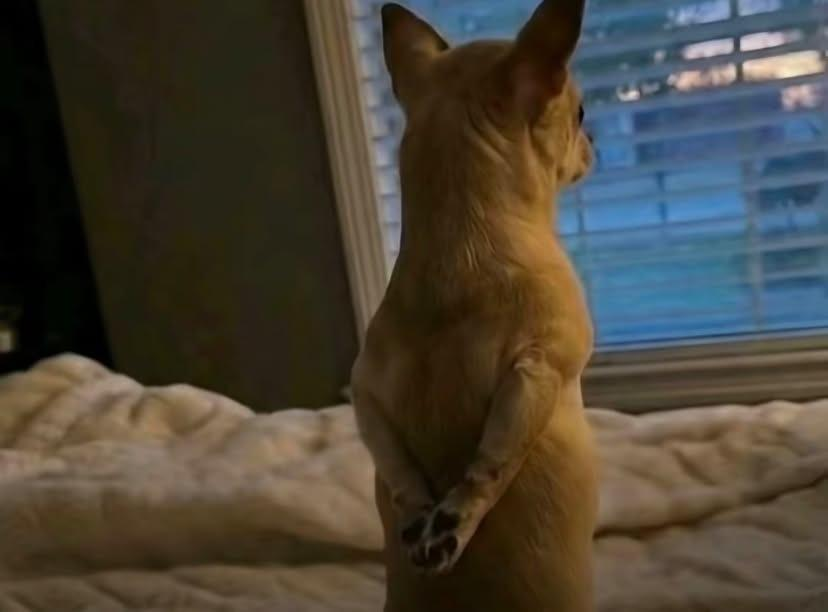adult_dog: (349, 0, 601, 612)
